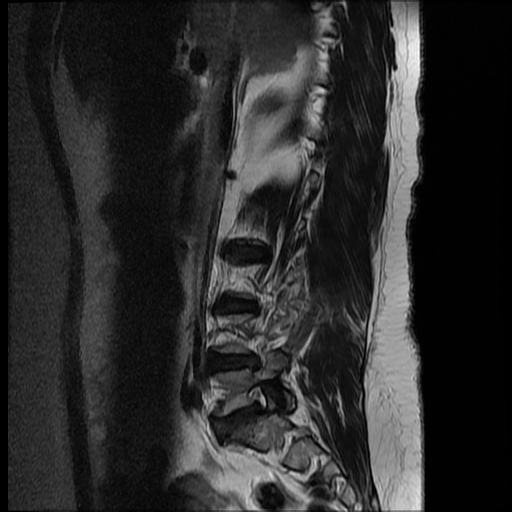RFS1: (235, 377, 277, 425)
